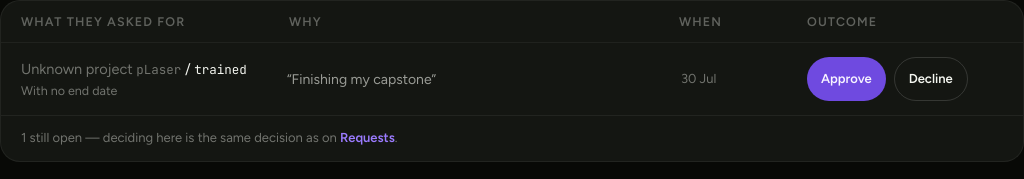
Test: PersonRequests › reports an approval in the queue's words, in the Outcome seat
The width and height of the screenshot is (1024, 179).
Click the button "Approve": (846, 79) [807, 57, 886, 101]
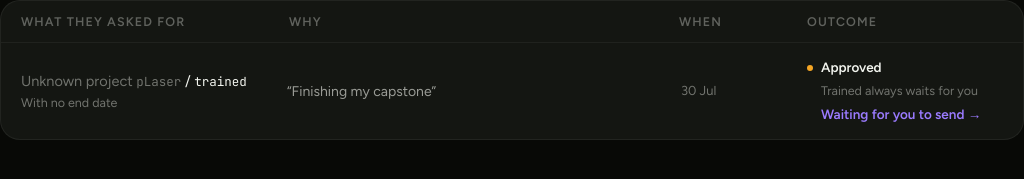
Now the message shows "Approved", box [821, 59, 882, 75]
Now the message shows "Trained always waits for you", box [821, 83, 978, 98]
Now the link "Waiting for you to send →" is shown, box [821, 104, 981, 125]
